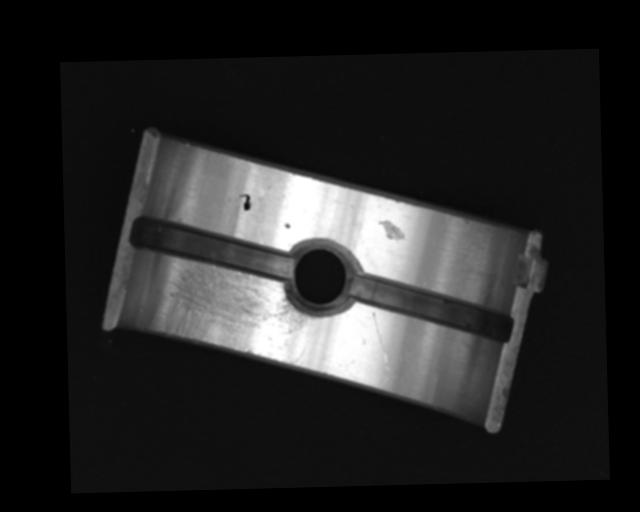blot: (237, 193, 252, 211)
bruise: (378, 219, 405, 243), (284, 222, 290, 228)
gap: (350, 268, 511, 345), (129, 212, 295, 282)
hole: (283, 238, 361, 315)
nick: (372, 310, 388, 371)
scratch: (145, 248, 309, 369)
